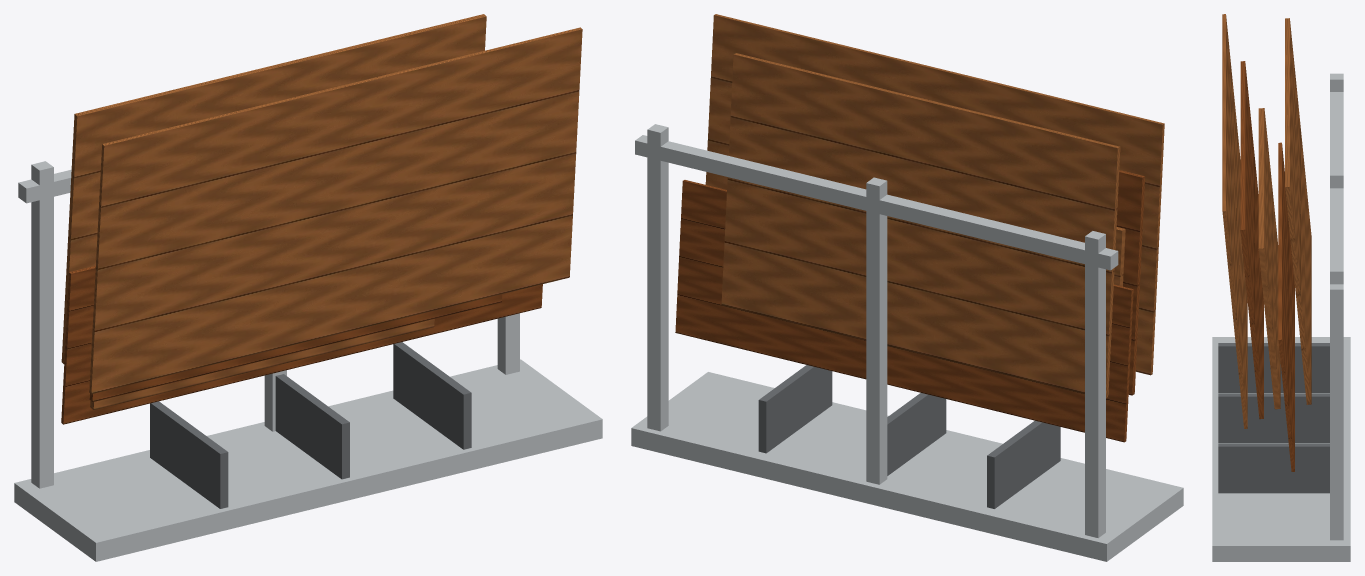
File: woodworking-workshop-and-joinery-woodworking-workshop--854a5688__34261.glb
3 renders of one model, left to right at view 1: azimuth 30°, elevation 25°; view 2: azimuth 150°, elevation 25°; view 3: azimuth 270°, elevation 25°, orthographic. The views are drawn at different scales.
Parts seen in each view (by area): view 1: woodworking-workshop-and-joinery-sheet-material-rack; view 2: woodworking-workshop-and-joinery-sheet-material-rack; view 3: woodworking-workshop-and-joinery-sheet-material-rack.
Part boxes in pixels (x1=…): woodworking-workshop-and-joinery-sheet-material-rack: x1=14, y1=14, x2=602, y2=561; woodworking-workshop-and-joinery-sheet-material-rack: x1=631, y1=14, x2=1183, y2=561; woodworking-workshop-and-joinery-sheet-material-rack: x1=1212, y1=14, x2=1350, y2=561.
Size of the model in its own units: 2.5 by 1.93 by 0.6999.
4 materials, 2 textured.
